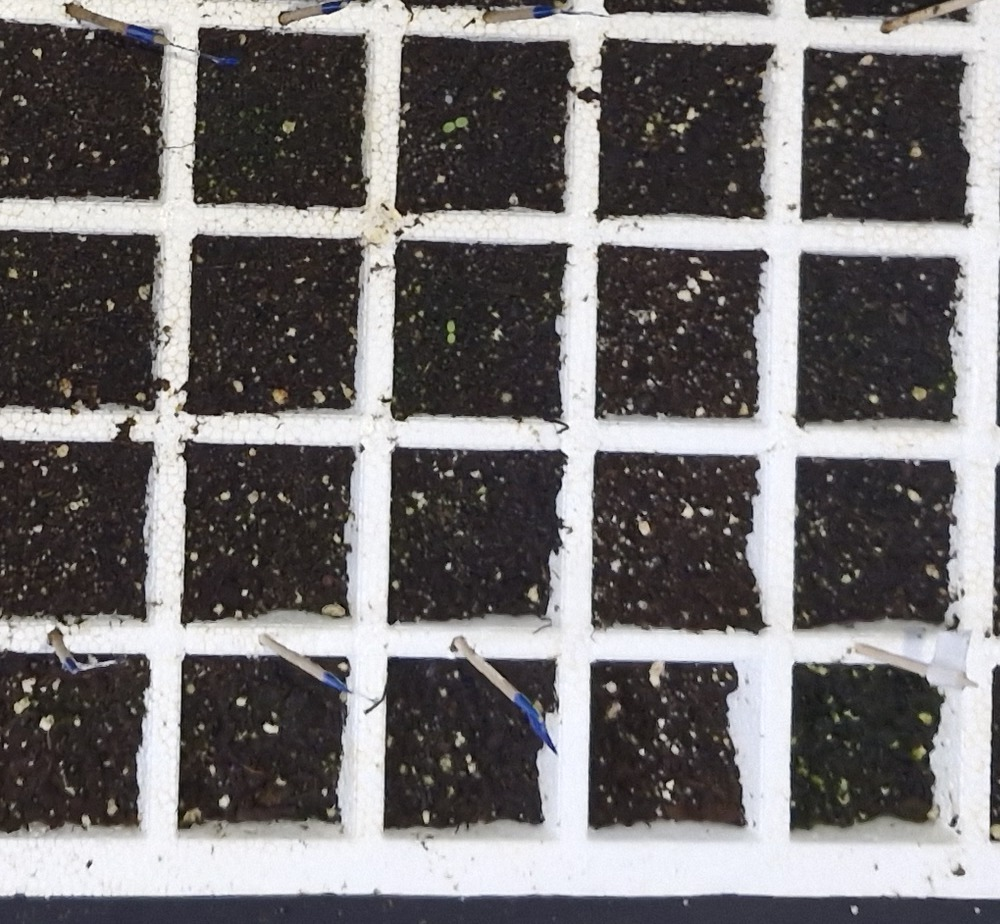Folha: (456, 117, 468, 127), (443, 122, 455, 132)
Germinacao: (443, 118, 469, 132), (447, 321, 456, 344)
